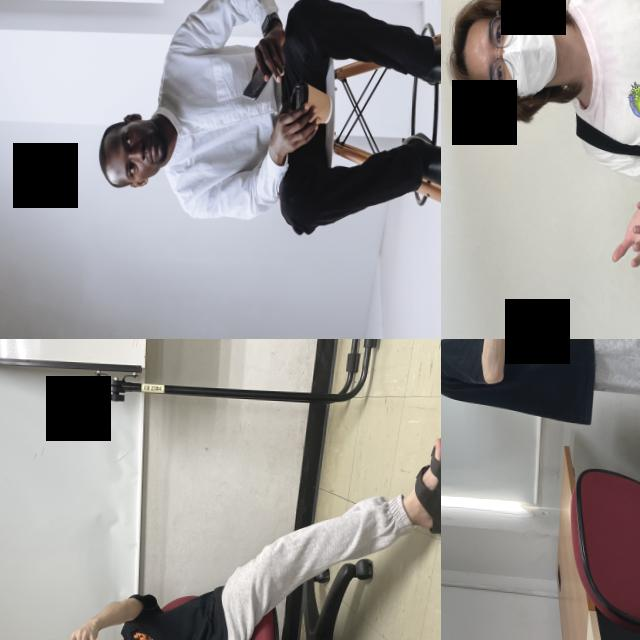cup: (286, 74, 338, 125)
